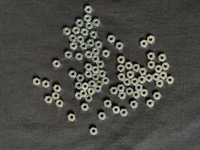nut: (166, 76, 175, 84), (160, 71, 168, 80), (147, 99, 155, 108), (139, 68, 148, 76), (126, 87, 134, 96), (112, 106, 121, 114), (73, 26, 81, 35), (33, 77, 41, 86), (162, 63, 170, 71), (159, 54, 167, 62), (156, 80, 164, 88), (155, 65, 163, 73), (148, 61, 156, 69), (148, 36, 156, 44), (141, 40, 149, 48), (148, 52, 156, 60), (141, 89, 149, 97), (133, 64, 141, 72), (133, 91, 141, 99), (130, 101, 138, 109), (120, 109, 128, 117), (123, 78, 131, 86), (127, 71, 135, 79), (125, 62, 133, 70), (119, 92, 127, 100), (118, 73, 126, 81), (118, 56, 126, 64), (110, 87, 118, 95), (104, 100, 112, 108), (90, 128, 98, 136), (116, 42, 124, 50), (108, 35, 116, 43), (102, 77, 110, 85), (99, 70, 107, 78), (92, 73, 100, 81), (88, 88, 96, 96), (85, 94, 93, 102), (81, 104, 89, 112), (68, 114, 76, 122), (93, 18, 101, 26), (84, 14, 92, 22), (90, 31, 98, 39), (95, 41, 103, 49), (87, 39, 95, 47), (85, 51, 93, 59), (81, 28, 89, 36), (76, 19, 84, 27), (77, 35, 85, 43), (80, 42, 88, 50), (69, 34, 77, 42), (70, 42, 78, 50), (65, 51, 73, 59), (80, 90, 88, 98), (77, 74, 85, 82), (69, 70, 77, 78), (53, 60, 61, 68), (52, 92, 60, 100), (56, 100, 64, 108), (45, 96, 53, 104), (42, 80, 50, 88), (153, 93, 162, 100), (117, 85, 126, 92), (118, 64, 125, 73), (98, 113, 107, 120), (86, 21, 93, 30), (82, 82, 89, 91), (53, 85, 62, 92), (153, 73, 160, 81), (146, 74, 153, 82), (139, 76, 146, 84), (136, 84, 143, 92), (132, 78, 139, 86), (103, 50, 110, 58), (96, 81, 104, 88), (94, 86, 102, 93), (92, 66, 100, 73), (97, 61, 105, 68), (89, 80, 96, 88), (85, 6, 93, 13), (92, 55, 100, 62), (93, 47, 100, 55), (85, 64, 93, 71), (85, 71, 93, 78), (64, 27, 71, 35), (76, 53, 83, 61), (76, 92, 83, 100), (76, 82, 83, 90)
